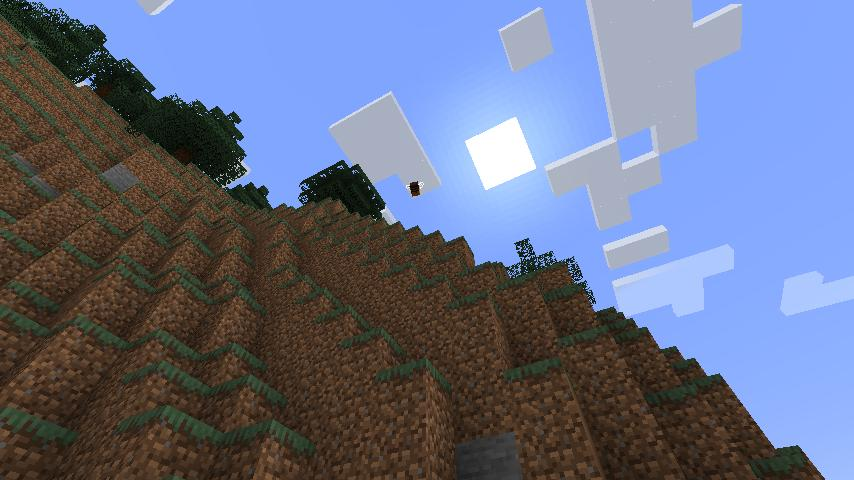bee: (405, 179, 424, 199)
